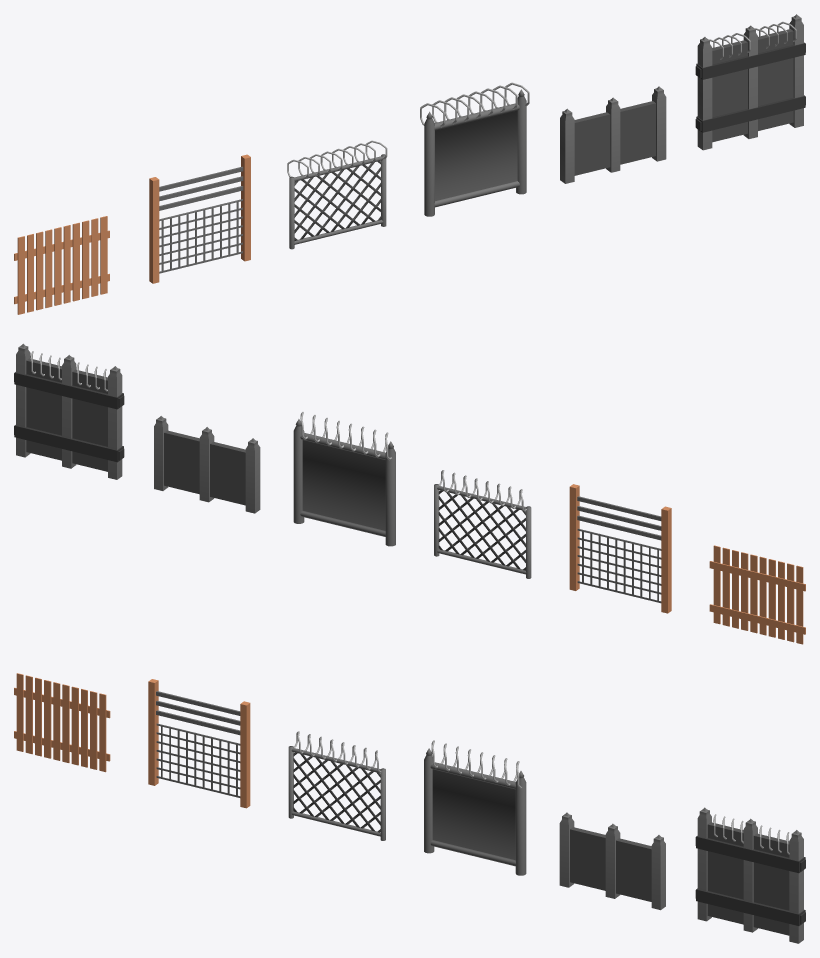
The model's file is fences_tiers.fbx.
3 renders of one model, top to bottom at view 1: azimuth 30°, elevation 25°; view 2: azimuth 150°, elevation 25°; view 3: azimuth 330°, elevation 25°, orthographic.
Parts seen in each view (by area): view 1: fence_t6, fence_t4, fence_t5, fence_t1, fence_t2, fence_t3; view 2: fence_t6, fence_t4, fence_t5, fence_t1, fence_t2, fence_t3; view 3: fence_t6, fence_t4, fence_t5, fence_t1, fence_t2, fence_t3.
Boxes of the visible parts, left/top/right/bottom form: fence_t6: left=695, top=14, right=805, bottom=150; fence_t4: left=420, top=82, right=529, bottom=216; fence_t5: left=560, top=86, right=666, bottom=183; fence_t1: left=14, top=216, right=109, bottom=314; fence_t2: left=149, top=154, right=250, bottom=283; fence_t3: left=287, top=140, right=387, bottom=249; fence_t6: left=14, top=343, right=124, bottom=479; fence_t4: left=293, top=412, right=395, bottom=546; fence_t5: left=154, top=416, right=260, bottom=513; fence_t1: left=709, top=545, right=805, bottom=644; fence_t2: left=569, top=484, right=671, bottom=613; fence_t3: left=434, top=470, right=531, bottom=578; fence_t6: left=695, top=807, right=805, bottom=943; fence_t4: left=424, top=740, right=526, bottom=875; fence_t5: left=559, top=812, right=665, bottom=910; fence_t1: left=14, top=673, right=110, bottom=772; fence_t2: left=148, top=679, right=250, bottom=808; fence_t3: left=288, top=731, right=385, bottom=840.
Size of the model in its own units: 1719 by 231 by 45.72.
5 materials, 5 textured.
